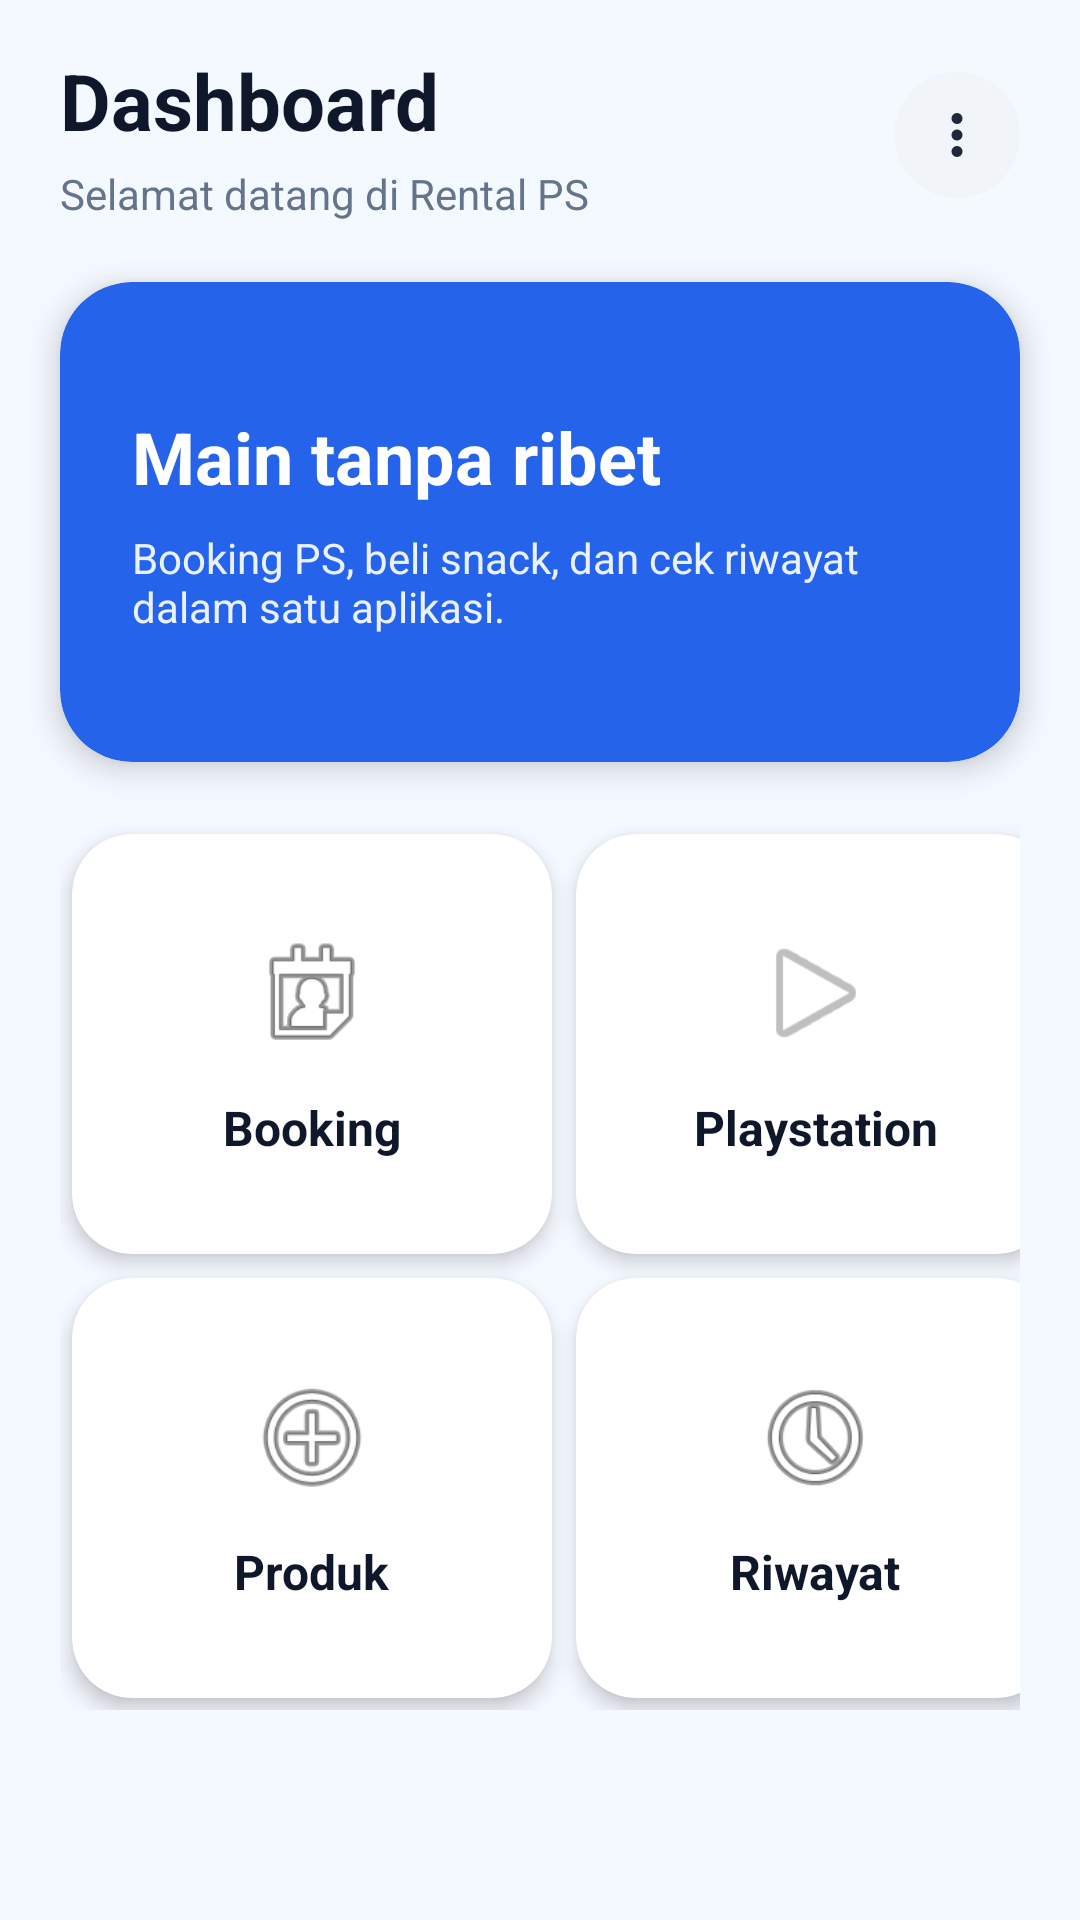

Where icons sit on this 1080px x 1920px app screen, as bbox=(x1, y1, x2, y2):
add: bbox=(263, 1389, 361, 1487)
calendar: bbox=(269, 943, 355, 1040)
Menu: bbox=(951, 113, 963, 157)
recent history: bbox=(767, 1390, 863, 1486)
